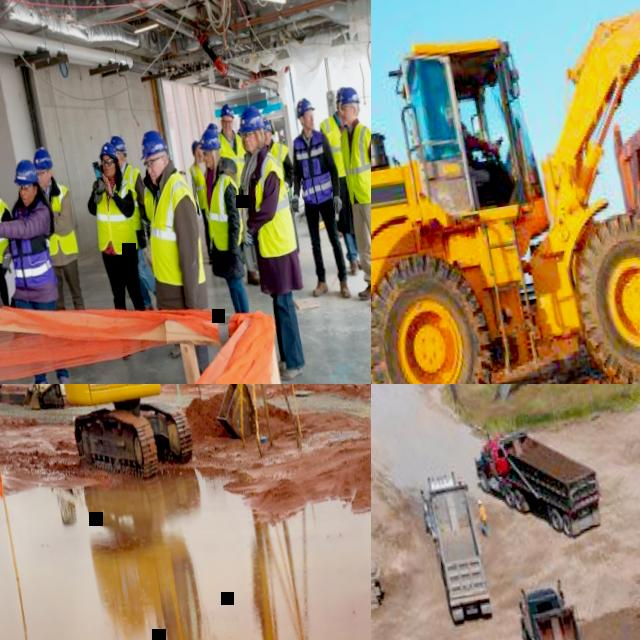Hardhat: (135, 128, 167, 160), (234, 103, 264, 134), (10, 157, 39, 188), (196, 127, 220, 153), (31, 146, 53, 171), (294, 95, 316, 118), (335, 87, 360, 107), (97, 139, 118, 162), (108, 134, 126, 154), (218, 103, 235, 121), (189, 139, 202, 156), (261, 118, 273, 133), (206, 122, 219, 133), (335, 88, 346, 100), (477, 498, 482, 505)
NO-Mask: (148, 169, 161, 185), (244, 140, 257, 152), (341, 114, 352, 126), (21, 194, 32, 206), (102, 167, 113, 178), (223, 126, 233, 136), (304, 122, 315, 131), (38, 179, 48, 188), (204, 159, 213, 168), (263, 137, 271, 146), (198, 150, 202, 156)
NO-Safety Vest: (458, 120, 476, 164)
Person: (221, 101, 318, 384), (125, 124, 226, 384), (272, 92, 359, 307), (0, 155, 80, 384), (78, 138, 159, 361), (186, 126, 257, 317), (312, 86, 371, 278), (323, 83, 371, 311), (212, 103, 268, 290), (108, 132, 163, 311), (30, 144, 88, 313), (442, 96, 516, 215), (262, 116, 306, 258), (0, 166, 30, 341), (184, 138, 220, 266), (139, 171, 158, 224), (475, 498, 490, 538), (206, 121, 220, 143)
Safety Vest: (137, 168, 210, 291), (244, 151, 297, 261), (1, 198, 63, 289), (87, 176, 144, 258), (198, 173, 247, 253), (290, 128, 334, 207), (36, 182, 78, 258), (337, 119, 371, 206), (217, 130, 250, 190), (119, 164, 149, 230), (318, 115, 348, 179), (268, 140, 298, 204), (0, 193, 17, 265), (187, 163, 210, 212), (477, 506, 486, 522)
vehicle: (371, 0, 640, 384), (22, 384, 259, 482), (581, 0, 640, 384), (469, 410, 607, 553), (417, 469, 494, 630), (512, 575, 607, 640), (11, 384, 68, 413)
